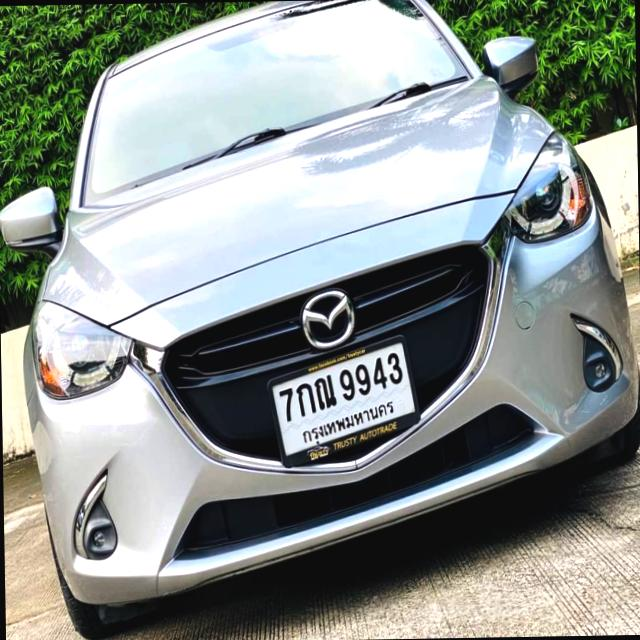license_plate: (256, 330, 421, 469)
